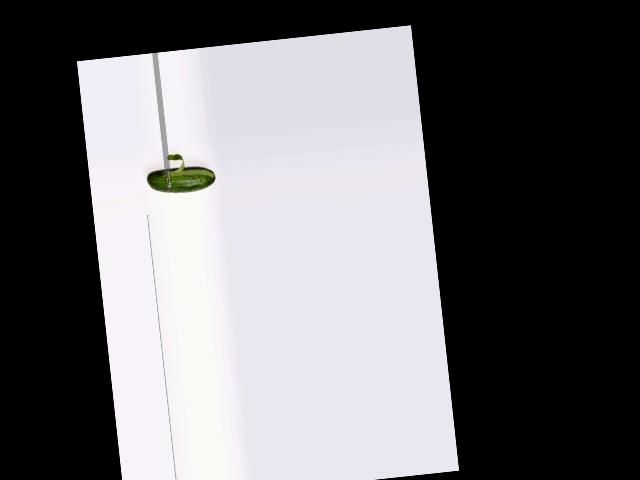cucumber: (145, 162, 216, 196)
